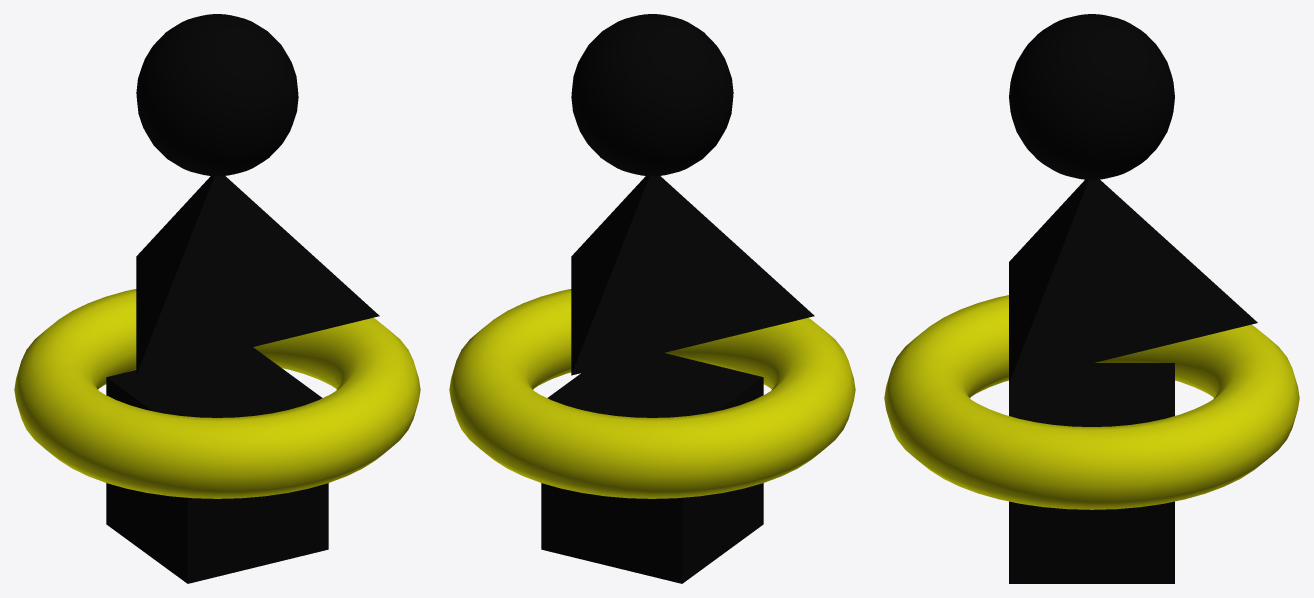
File: mirrors.dae
The picture shows the model from 3 angles, left to right: view 1: azimuth 30°, elevation 25°; view 2: azimuth 150°, elevation 25°; view 3: azimuth 270°, elevation 25°; orthographic projection. The views are drawn at different scales.
Parts seen in each view (by area): view 1: Torus, Cone, Cube, Sphere; view 2: Torus, Cone, Cube, Sphere; view 3: Torus, Cone, Cube, Sphere.
Boxes of the visible parts, x1,y1,x2,y2 form: Torus: (14,289,420,498); Cone: (136,176,379,375); Cube: (106,347,328,583); Sphere: (136,14,298,176); Torus: (449,289,855,498); Cone: (571,176,814,375); Cube: (541,353,763,583); Sphere: (571,14,733,176); Torus: (884,295,1299,509); Cone: (1009,179,1257,383); Cube: (1009,363,1174,583); Sphere: (1009,14,1174,179).
Size of the model in its own units: 2.5 by 2.5 by 3.5.
